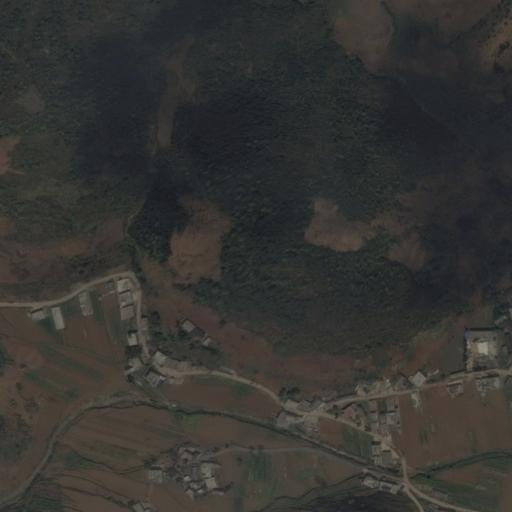landslide: (168, 192, 231, 286)
